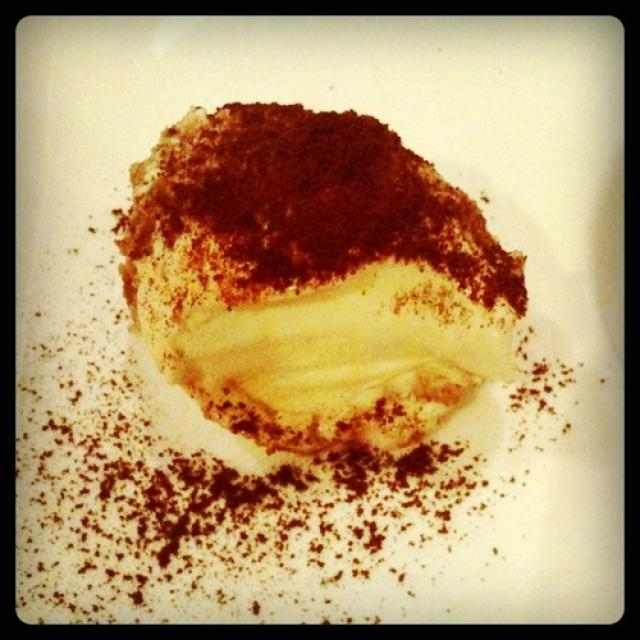蛋糕甜品: (90, 92, 538, 547)
